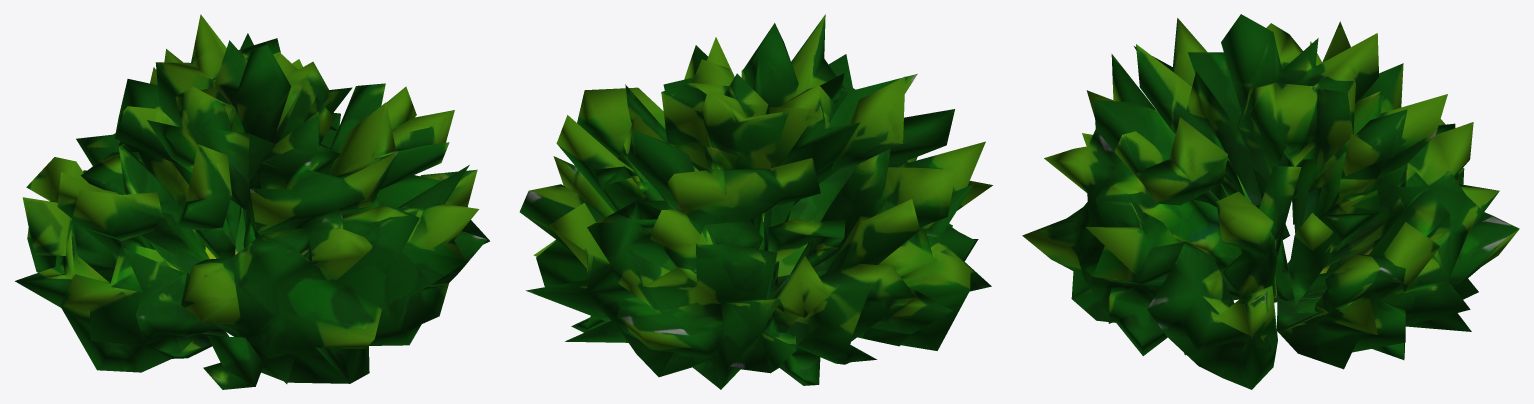
The model's file is arbusto1.fbx.
3 renders of one model, left to right at view 1: azimuth 30°, elevation 25°; view 2: azimuth 150°, elevation 25°; view 3: azimuth 270°, elevation 25°, orthographic. The views are drawn at different scales.
Parts seen in each view (by area): view 1: tripo_node_c8950c9b; view 2: tripo_node_c8950c9b; view 3: tripo_node_c8950c9b.
Boxes of the visible parts, left/top/right/bottom form: tripo_node_c8950c9b: left=15, top=14, right=489, bottom=389; tripo_node_c8950c9b: left=519, top=14, right=992, bottom=389; tripo_node_c8950c9b: left=1022, top=14, right=1519, bottom=389.
Size of the model in its own units: 1 by 0.6375 by 0.974.
1 material, 1 textured.
